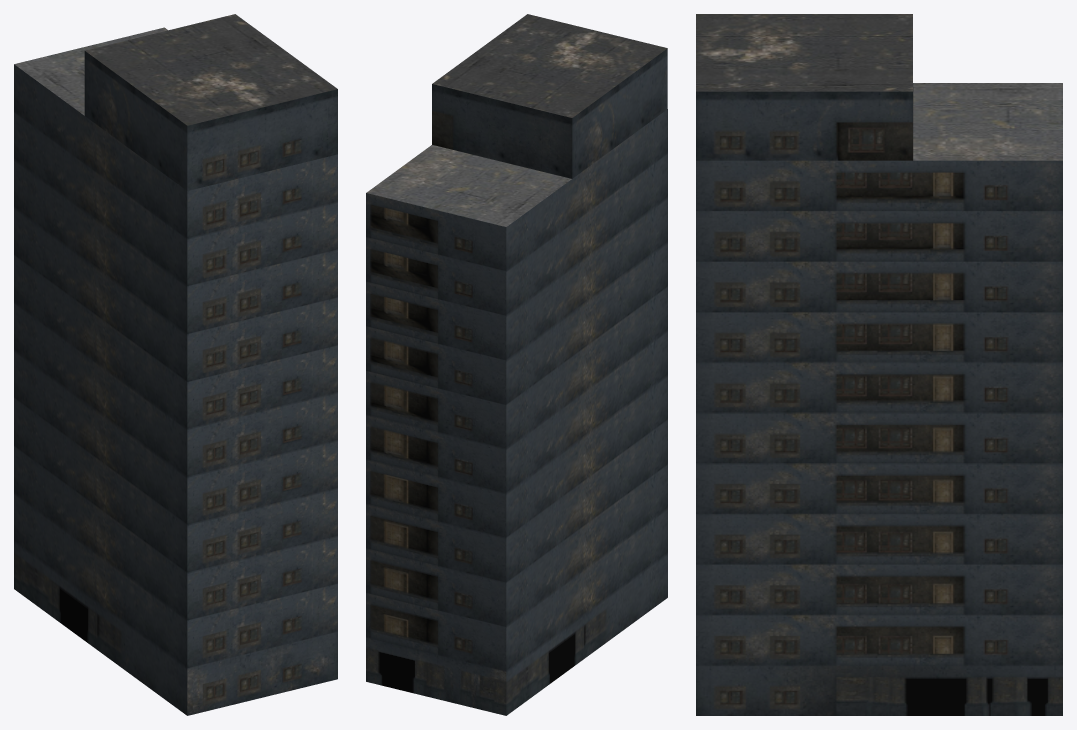
Rendered from Tower09.FBX.
3 renders of one model, left to right at view 1: azimuth 30°, elevation 25°; view 2: azimuth 150°, elevation 25°; view 3: azimuth 270°, elevation 25°, orthographic. The views are drawn at different scales.
Visible parts, largest first — view 1: Tower09; view 2: Tower09; view 3: Tower09.
Boxes of the visible parts, left/top/right/bottom form: Tower09: left=14, top=14, right=337, bottom=715; Tower09: left=366, top=14, right=667, bottom=715; Tower09: left=696, top=14, right=1062, bottom=715.
Bounding box in the file's own units: 1688 × 6322 × 3367.
